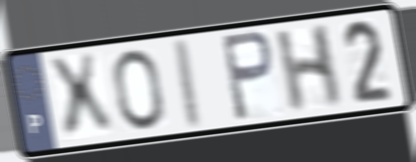2: (341, 18, 395, 106)
H: (272, 21, 345, 116)
I: (174, 35, 205, 133)
O: (111, 47, 168, 133)
P: (218, 28, 276, 124)
X: (44, 50, 118, 144)
